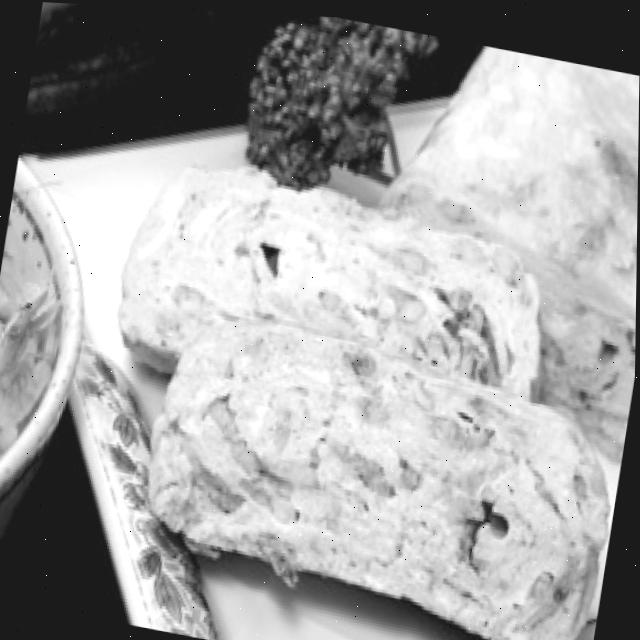鸡蛋料理: (70, 128, 639, 640)
